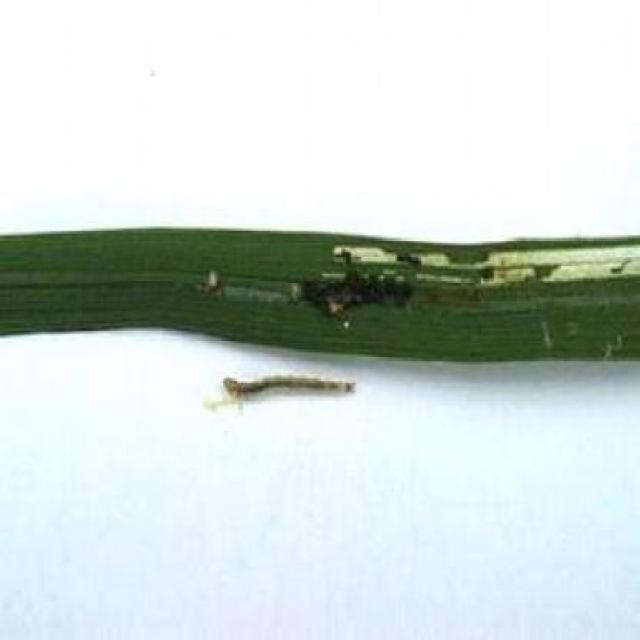leaf-folder: (211, 348, 366, 426)
